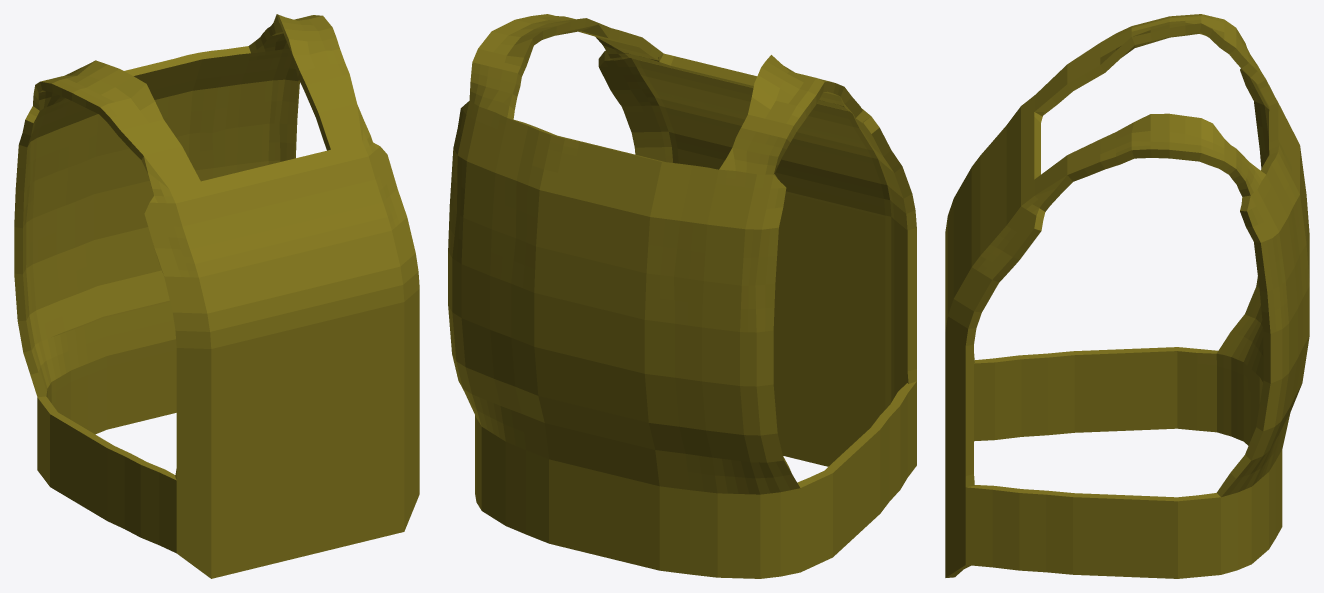
Rendered from Armor_tors-1.fbx.
3 renders of one model, left to right at view 1: azimuth 30°, elevation 25°; view 2: azimuth 150°, elevation 25°; view 3: azimuth 270°, elevation 25°, orthographic. The views are drawn at different scales.
Visible parts, largest first — view 1: Bronik; view 2: Bronik; view 3: Bronik.
Boxes of the visible parts, bbox=[...] form: Bronik: bbox=[14, 14, 419, 578]; Bronik: bbox=[448, 14, 916, 578]; Bronik: bbox=[945, 14, 1309, 578].
Size of the model in its own units: 31.99 by 44.22 by 31.94.
